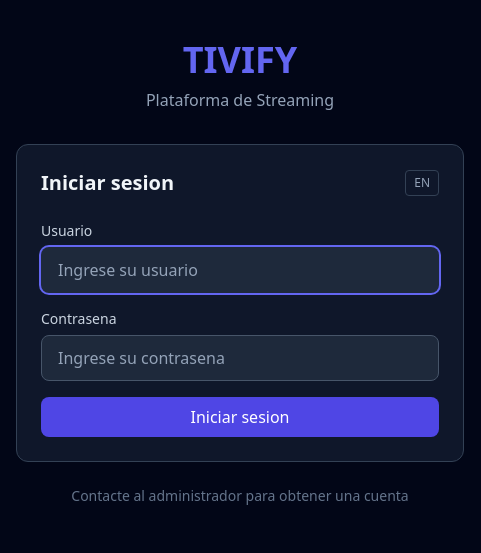
it: LoginPage › shows server error on 500 response
The image size is (481, 553).
In the field labelled "Usuario": [240, 270] box [41,247,439,293], type "admin"
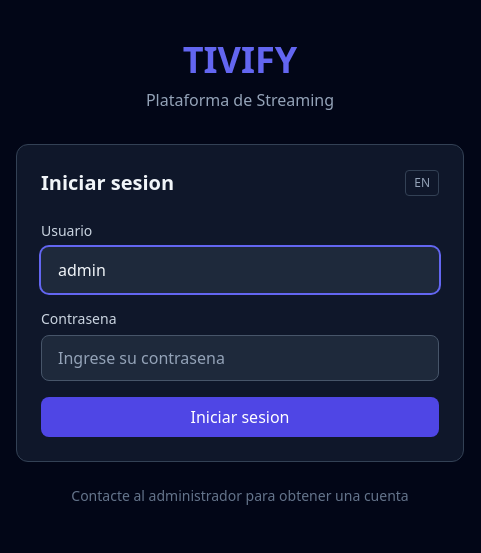
In the password field labelled "Contrasena": [240, 358] box [41,335,439,381], type "pass123"
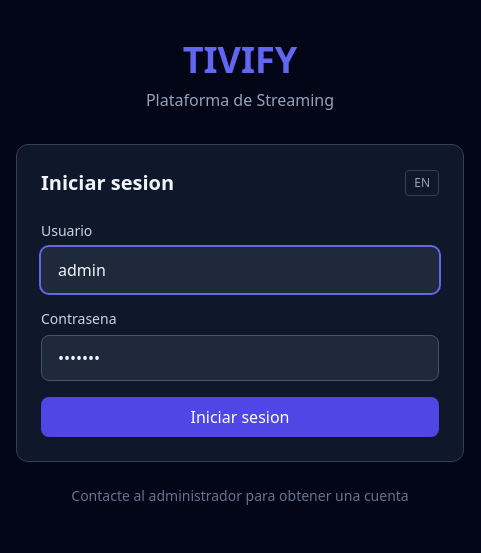
Click the button "Iniciar sesion": [240, 417] box [41,397,439,437]
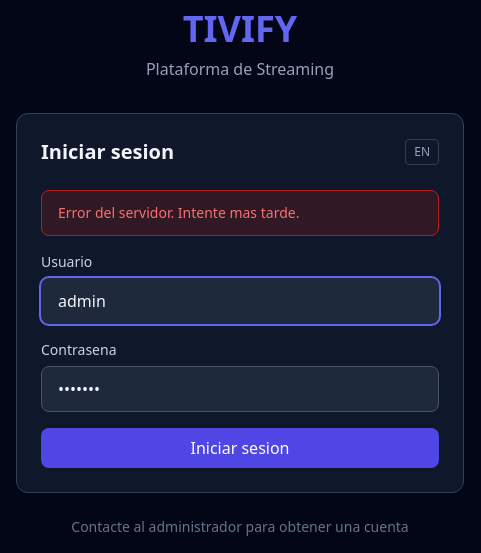
expect the text "Error del servidor. Intente mas tarde." is shown: met, box [41,190,439,236]
